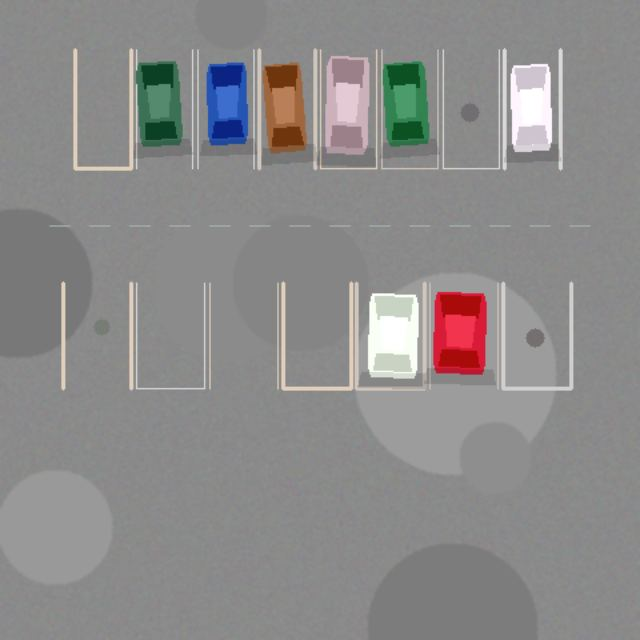space-empty: (63, 283, 131, 388), (136, 283, 204, 388), (209, 283, 277, 388), (283, 283, 351, 388), (503, 283, 571, 388), (75, 49, 131, 168), (443, 49, 499, 168)
space-occupied: (356, 283, 424, 388), (429, 283, 497, 388), (136, 49, 192, 168), (197, 49, 253, 168), (259, 49, 315, 168), (320, 49, 376, 168), (381, 49, 437, 168), (504, 49, 560, 168)
